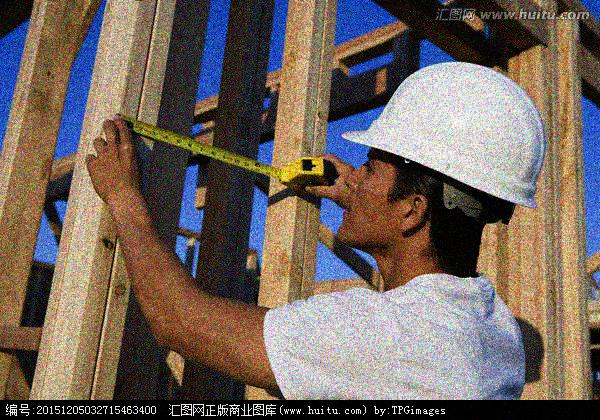helmet: (335, 60, 547, 249)
